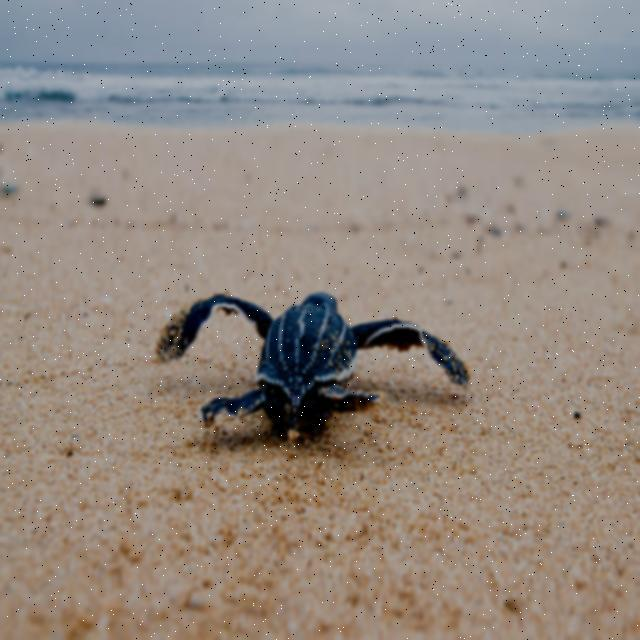tortoise: (134, 272, 473, 460)
